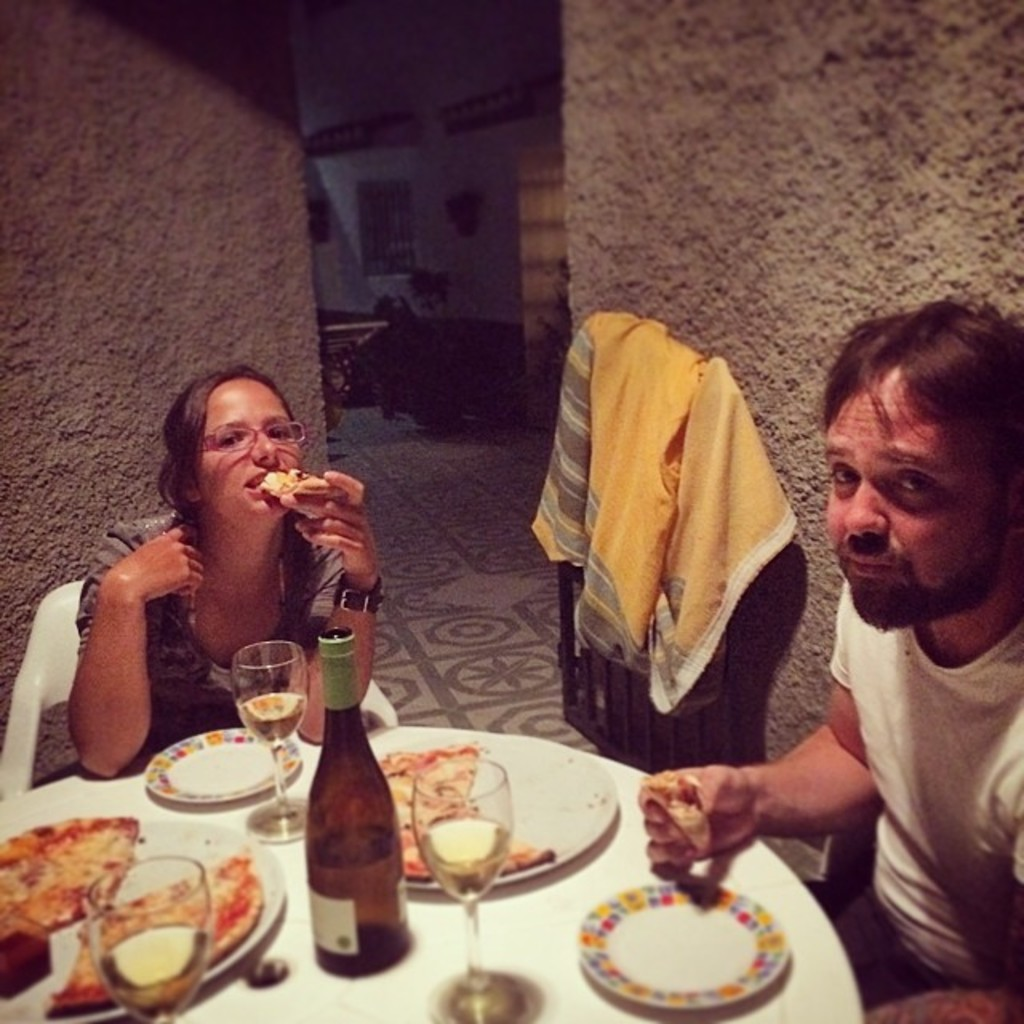plate: (350, 726, 627, 892), (585, 870, 803, 1011)
